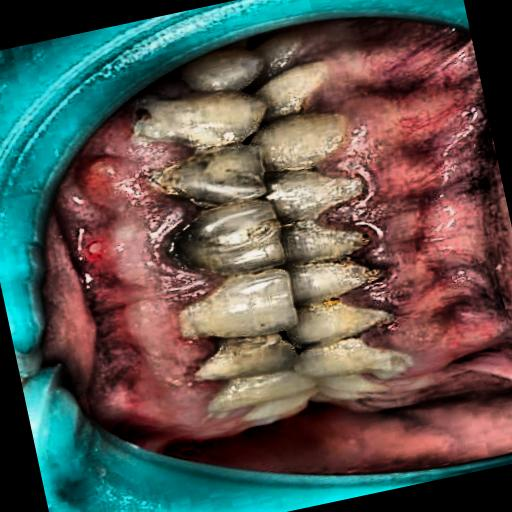Gingivitis: (282, 6, 440, 277), (44, 118, 198, 312), (99, 292, 242, 464), (335, 262, 470, 423)
